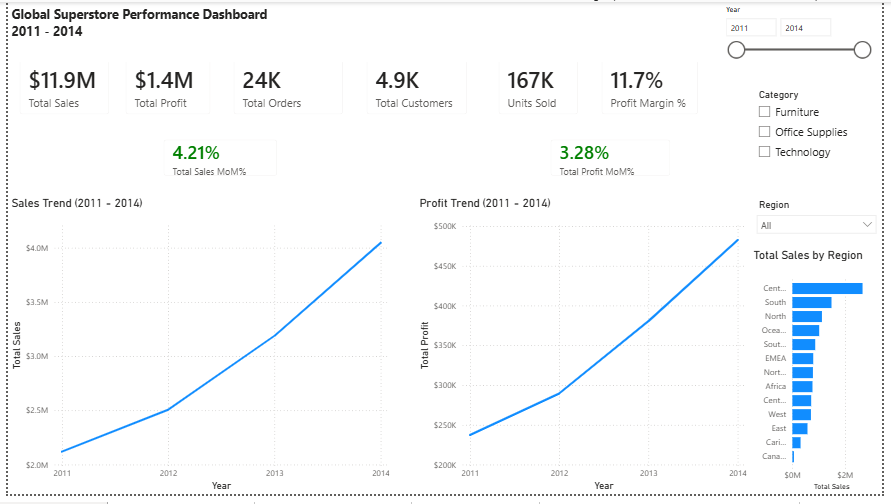

This screenshot's page, from the dashboard's own definition file:
{"tool":"powerbi","page":{"name":"Executive Summary","canvas":[1280,720],"ordinal":0},"visuals":[{"type":"cardVisual","fields":{"Data":["_Measures.Total Sales"]},"box":[0,64.4,165.4,117.1],"z":0},{"type":"cardVisual","fields":{"Data":["_Measures.Total Profit"]},"box":[155.1,64.4,158,117.1],"z":1000},{"type":"cardVisual","fields":{"Data":["_Measures.Total Orders"]},"box":[313.2,64.4,194.6,117.1],"z":2000},{"type":"cardVisual","fields":{"Data":["_Measures.Total Customers"]},"box":[507.8,64.4,181.5,117.1],"z":3000},{"type":"cardVisual","fields":{"Data":["_Measures.Units Sold"]},"box":[701,64.4,150.7,117.1],"z":4000},{"type":"lineChart","fields":{"Y":["_Measures.Total Sales"],"Category":["Dim_Date.Year Hierarchy.Year","Dim_Date.Year Hierarchy.Year-Quarter","Dim_Date.Year Hierarchy.Year-Month"]},"box":[0,283.9,563.4,436.1],"z":5000},{"type":"lineChart","fields":{"Category":["Dim_Date.Year Hierarchy.Year","Dim_Date.Year Hierarchy.Year-Quarter","Dim_Date.Year Hierarchy.Year-Month"],"Y":["_Measures.Total Profit"]},"box":[597.1,283.9,488.8,436.1],"z":6000},{"type":"slicer","fields":{"Values":["Dim_Date.Year"]},"box":[1037.6,0,234.1,117.1],"z":7000},{"type":"slicer","fields":{"Values":["Dim_Product.Category"]},"box":[1085.9,122.9,194.6,122.9],"z":8000},{"type":"slicer","fields":{"Values":["Dim_Geography.Region"]},"box":[1085.9,283.9,194.6,76.1],"z":9000},{"type":"cardVisual","fields":{"Data":["_Measures.Profit Margin %"]},"box":[851.7,64.4,175.6,117.1],"z":10000},{"type":"cardVisual","fields":{"Data":["_Measures.Total Sales MoM%"]},"box":[210.7,184.4,200.5,87.8],"z":11000},{"type":"cardVisual","fields":{"Data":["_Measures.Total Profit MoM%"]},"box":[777.1,184.4,209.3,87.8],"z":12000},{"type":"barChart","fields":{"Category":["Dim_Geography.Region"],"Y":["_Measures.Total Sales"]},"box":[1085.9,360,194.6,360],"z":13000},{"type":"textbox","box":[0,0,1050.7,87.8],"z":14000}]}

Visuals, with their boxes on the page's 1280x720 design canvas (x1, y1, x2, y2). These are canvas units, not pixel positions in the 891x504 screenshot, which may show the page scaled, cropped or inside an application window:
cardVisual - _Measures.Total Sales: box=[0, 64, 165, 182]
cardVisual - _Measures.Total Profit: box=[155, 64, 313, 182]
cardVisual - _Measures.Total Orders: box=[313, 64, 508, 182]
cardVisual - _Measures.Total Customers: box=[508, 64, 689, 182]
cardVisual - _Measures.Units Sold: box=[701, 64, 852, 182]
lineChart - _Measures.Total Sales x Dim_Date.Year Hierarchy.Year: box=[0, 284, 563, 720]
lineChart - Dim_Date.Year Hierarchy.Year x Dim_Date.Year Hierarchy.Year-Quarter: box=[597, 284, 1086, 720]
slicer - Dim_Date.Year: box=[1038, 0, 1272, 117]
slicer - Dim_Product.Category: box=[1086, 123, 1280, 246]
slicer - Dim_Geography.Region: box=[1086, 284, 1280, 360]
cardVisual - _Measures.Profit Margin %: box=[852, 64, 1027, 182]
cardVisual - _Measures.Total Sales MoM%: box=[211, 184, 411, 272]
cardVisual - _Measures.Total Profit MoM%: box=[777, 184, 986, 272]
barChart - Dim_Geography.Region x _Measures.Total Sales: box=[1086, 360, 1280, 720]
textbox: box=[0, 0, 1051, 88]
